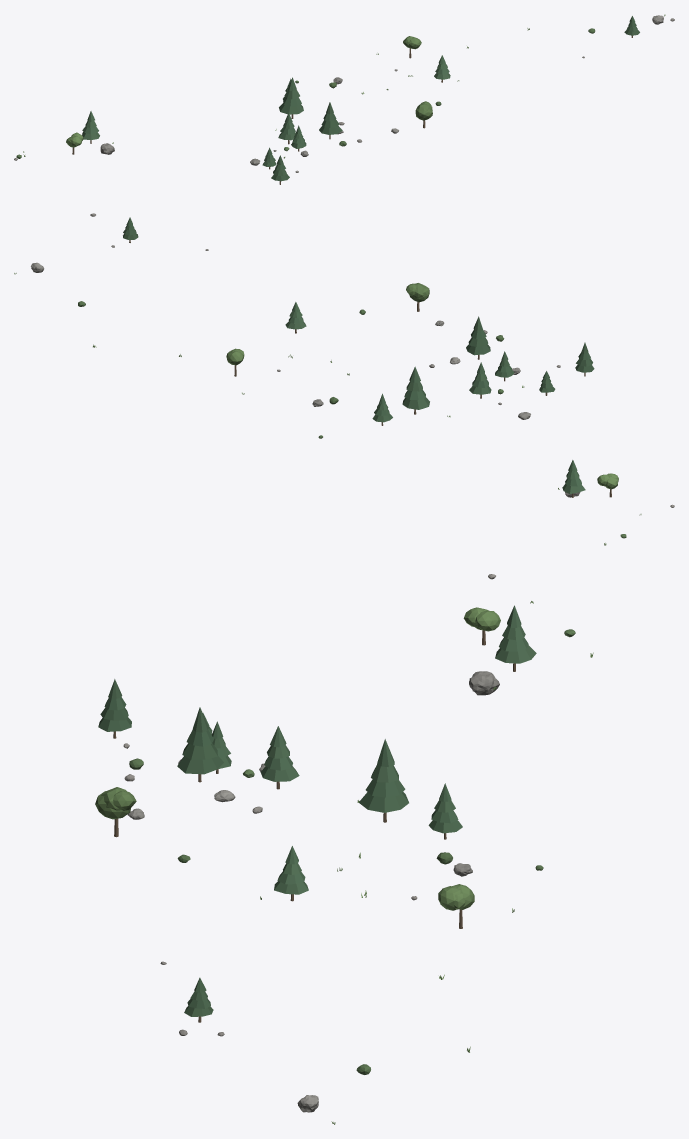
Rendered from arch_land_scatter_c20_18.glb.
The picture shows the model from 3 angles, top to bottom: view 1: azimuth 30°, elevation 25°; view 2: azimuth 150°, elevation 25°; view 3: azimuth 270°, elevation 25°; orthographic projection. The views are drawn at different scales.
Parts seen in each view (by area): view 1: arch_land_scatter_c20_18; view 2: arch_land_scatter_c20_18; view 3: arch_land_scatter_c20_18.
Boxes of the visible parts, x1,y1,x2,y2 form: arch_land_scatter_c20_18: [14, 14, 674, 184]; arch_land_scatter_c20_18: [14, 213, 674, 545]; arch_land_scatter_c20_18: [95, 574, 593, 1124].
Size of the model in its own units: 238 by 32.93 by 83.93.
